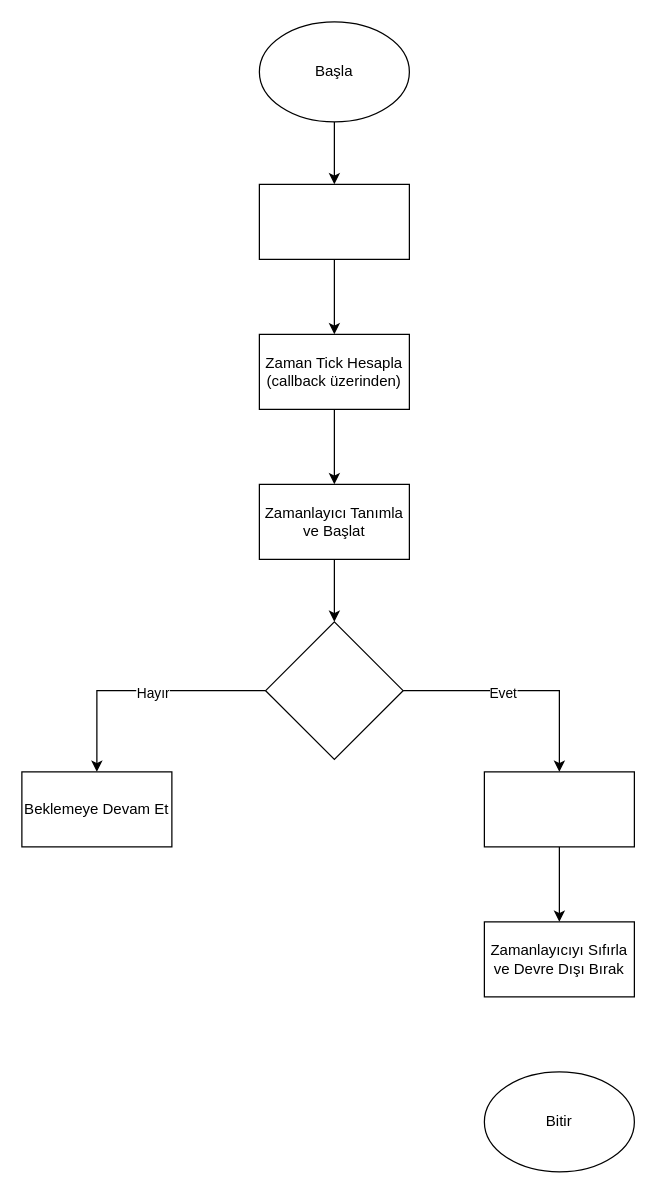
The diagram is 656 pixels wide and 1194 high, and some of its shapes have lost their labels. Each missing label, with the centre of its shape:
"Görevi Gerçekleştir" goes at pixel 558 809.
"Timer Donanımı Seç ve Kesme Aktifleştir" goes at pixel 333 221.
"Zaman doldu mu?" goes at pixel 333 690.
